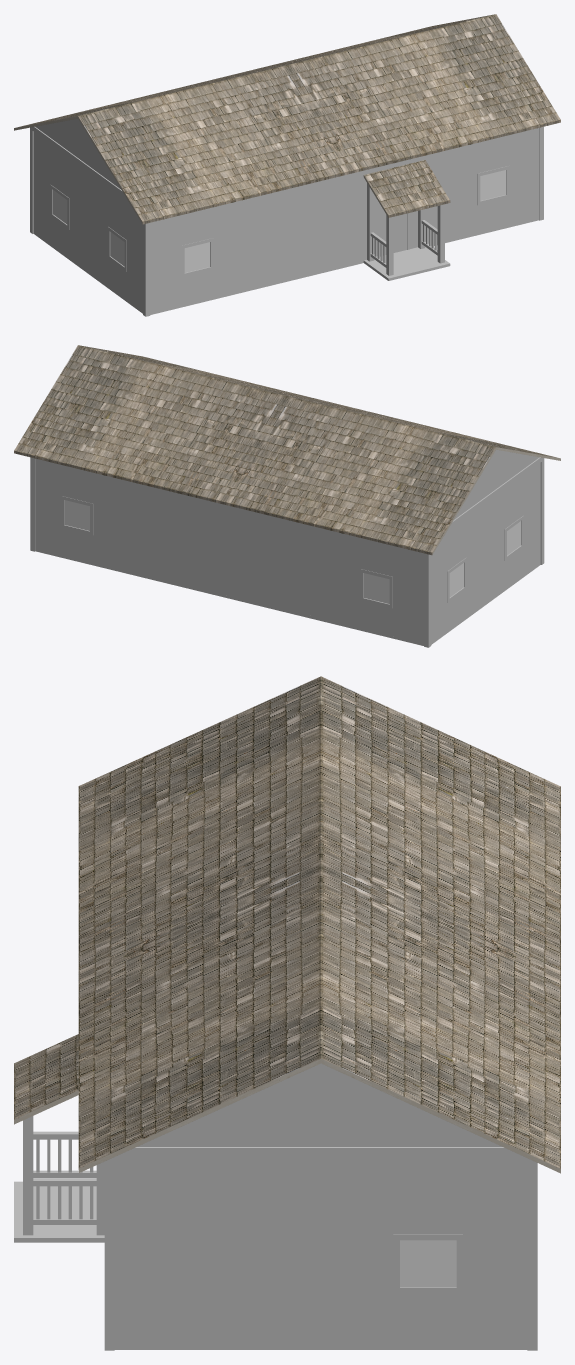
The model's file is FarmHause02.fbx.
The picture shows the model from 3 angles, top to bottom: view 1: azimuth 30°, elevation 25°; view 2: azimuth 150°, elevation 25°; view 3: azimuth 270°, elevation 25°; orthographic projection. The views are drawn at different scales.
Visible parts, largest first — view 1: FermHaus.003, FermHaus.007, FermHaus.006, FermHaus.005, FermHausdoor.003, steklo.008, steklo.014; view 2: FermHaus.003, FermHaus.007, FermHaus.005, steklo.013, steklo.009; view 3: FermHaus.003, FermHaus.007, FermHaus.006, steklo.012, FermHaus.005.
Part boxes in pixels (x1=…): FermHaus.003: x1=14, y1=14, x2=560, y2=224; FermHaus.007: x1=30, y1=118, x2=543, y2=316; FermHaus.006: x1=363, y1=160, x2=450, y2=280; FermHaus.005: x1=33, y1=218, x2=538, y2=314; FermHausdoor.003: x1=381, y1=206, x2=406, y2=255; steklo.008: x1=184, y1=242, x2=210, y2=272; steklo.014: x1=480, y1=170, x2=505, y2=200; FermHaus.003: x1=14, y1=345, x2=560, y2=555; FermHaus.007: x1=30, y1=449, x2=544, y2=647; FermHaus.005: x1=35, y1=549, x2=540, y2=645; steklo.013: x1=64, y1=500, x2=89, y2=530; steklo.009: x1=364, y1=573, x2=389, y2=603; FermHaus.003: x1=78, y1=676, x2=560, y2=1173; FermHaus.007: x1=104, y1=1063, x2=537, y2=1350; FermHaus.006: x1=14, y1=1034, x2=104, y2=1242; steklo.012: x1=400, y1=1240, x2=456, y2=1286; FermHaus.005: x1=114, y1=1345, x2=527, y2=1349.
Bounding box in the file's own units: 1687 × 620 × 1020.
